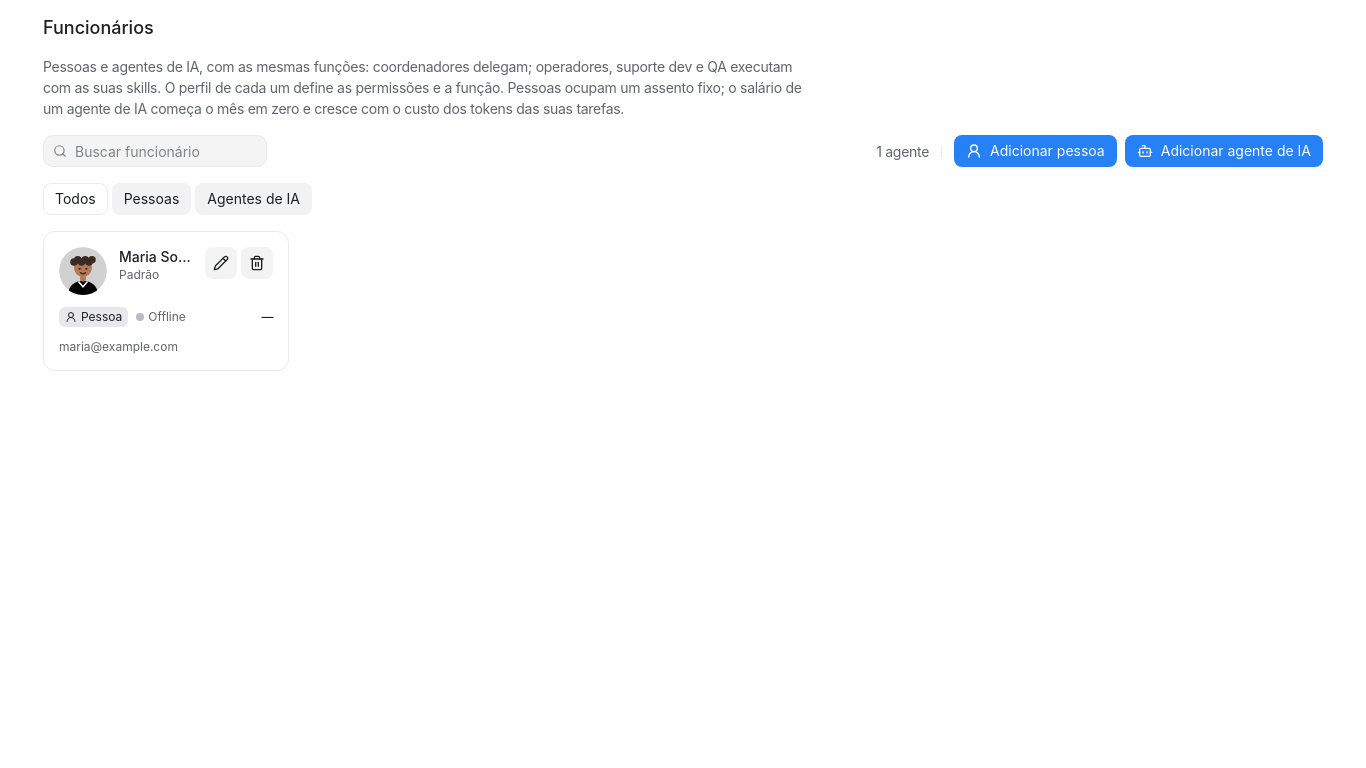
Test case: agent two-factor reset › lets administrators reset an agent two-factor authentication
Click the button named "Editar Maria Souza": [221, 263] box [205,247,237,279]
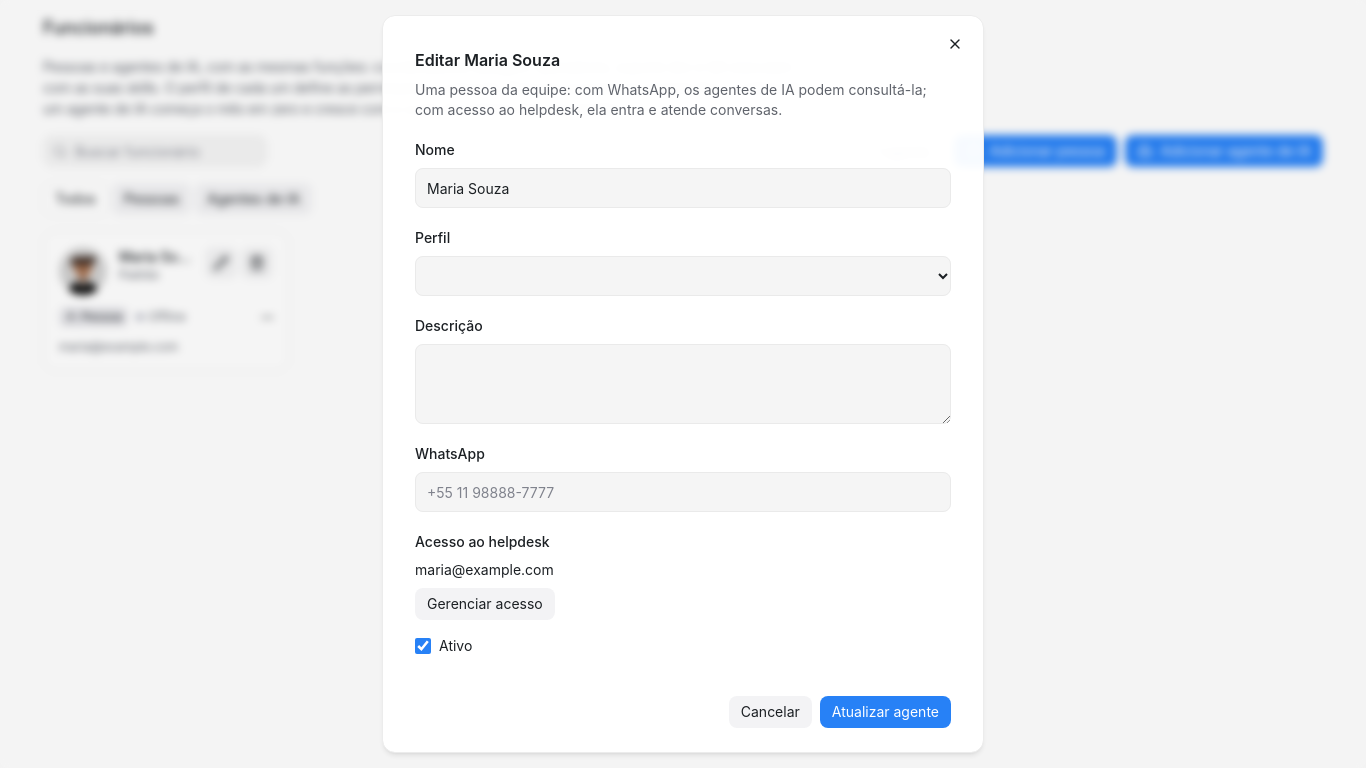
Click the button "Gerenciar acesso": [485, 604] box [415,588,555,620]
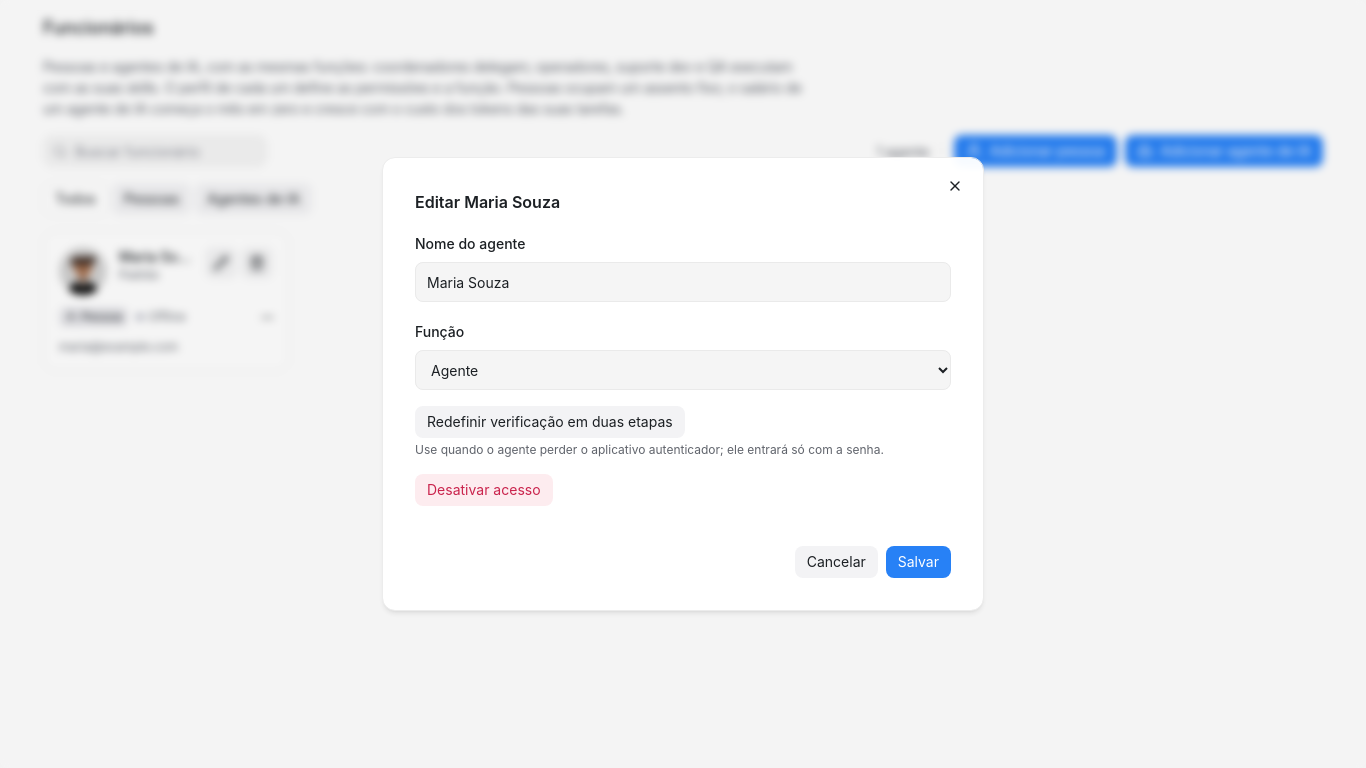
Click the button "Redefinir verificação em duas etapas": [550, 422] box [415,406,685,438]
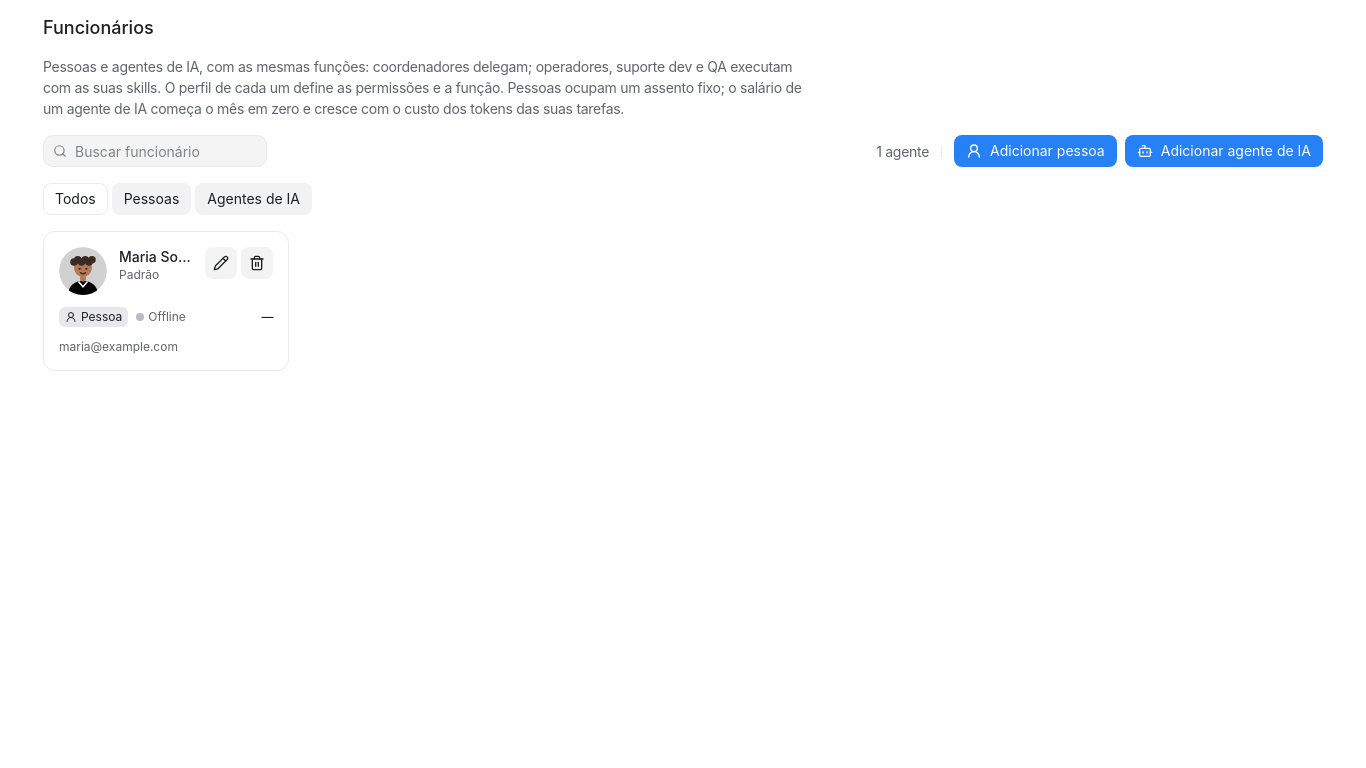
expect the dialog is gone: met
